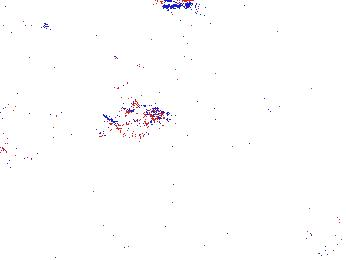X-ray fish: (97, 104, 172, 142)
red belly glassfish: (149, 1, 194, 9)
